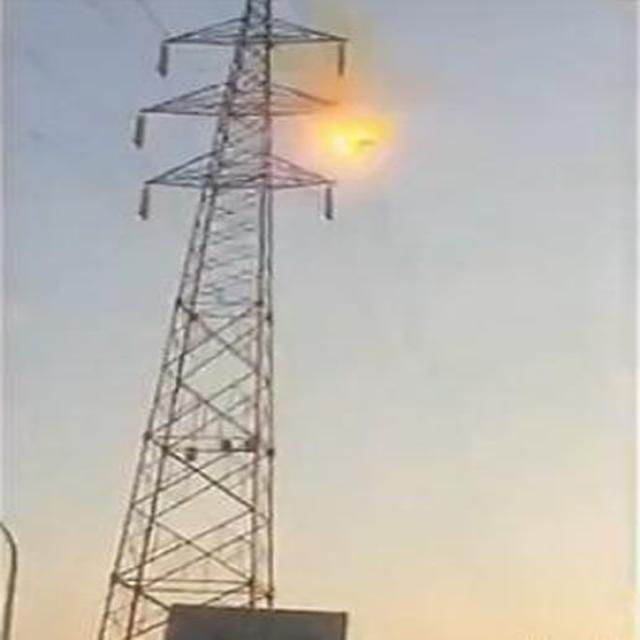non-critical vegetation: (64, 7, 354, 636)
